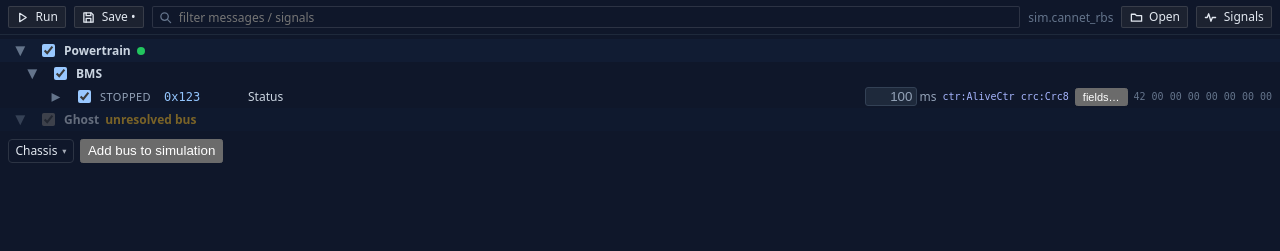
RbsPanel with long names › splits a long signal name in the per-message table, leaving a short one alone
Click the button named "toggle 0x123" at (56, 96), box [44,87,68,105]
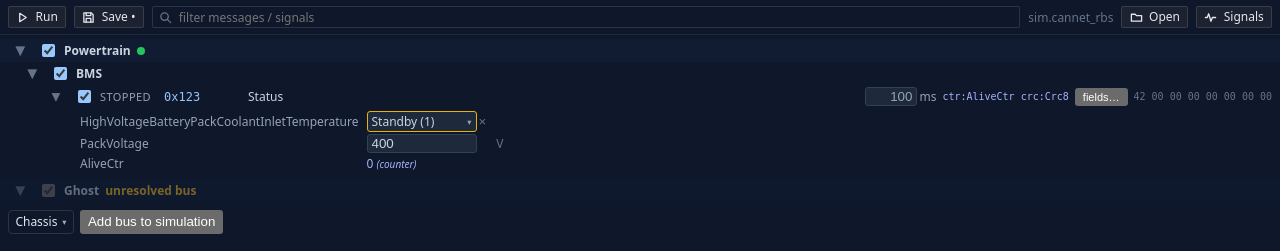
Now the cell with class "rbs-sig-name" that starts with "HighVoltageBatteryPackCoolantInlet" is shown, box [80,110,366,133]
Now the text with class "name-text-head" reads "HighVoltageBatteryPackCoolantInlet", box [80,113,286,130]
Now the text with class "name-text-tail" reads "Temperature", box [286,113,359,130]
